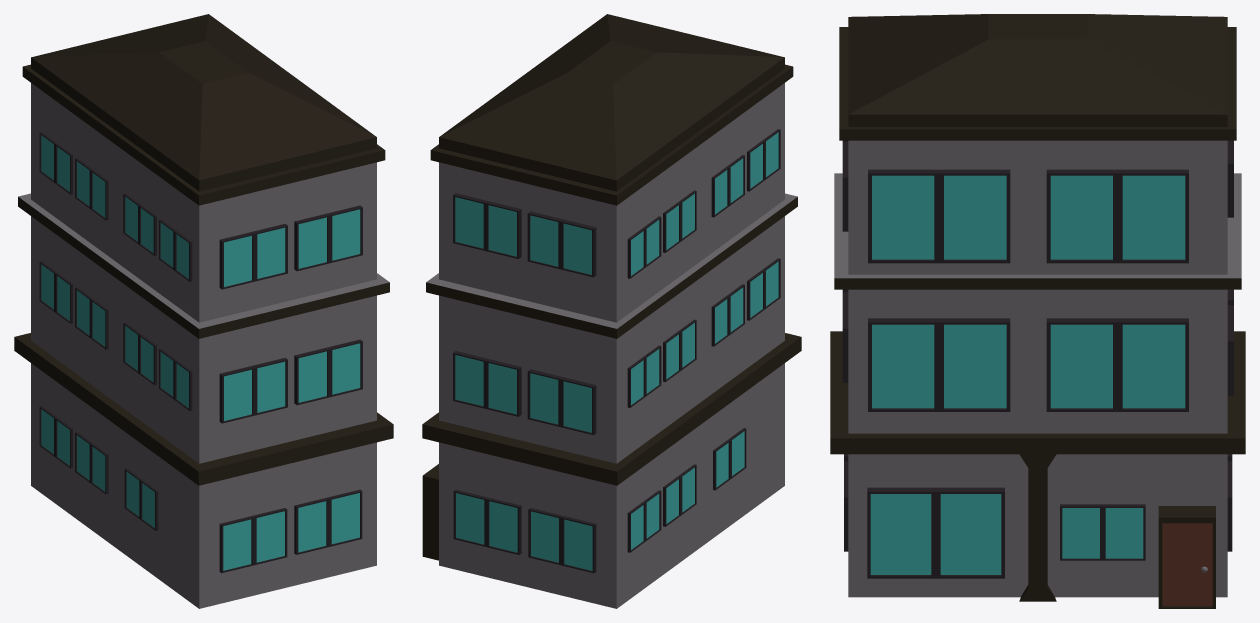
File: apartment3.fbx
3 renders of one model, left to right at view 1: azimuth 30°, elevation 25°; view 2: azimuth 150°, elevation 25°; view 3: azimuth 270°, elevation 25°, orthographic. The views are drawn at different scales.
Parts seen in each view (by area): view 1: Cube, Cube.014, Cube.001, Cube.036, Cube.038, Cube.035, Cube.037, Cube.033, Cube.034, Cube.016, Cube.018, Cube.021 (+8 smaller); view 2: Cube, Cube.014, Cube.001, Cube.032, Cube.030, Cube.029, Cube.031, Cube.027, Cube.028, Cube.002, Cube.017, Cube.019 (+9 smaller); view 3: Cube, Cube.014, Cube.001, Cube.004, Cube.008, Cube.005, Cube.003, Cube.007, Cube.006, Cube.015, Cube.002, Cube.029 (+2 smaller).
Boxes of the visible parts, x1=… form: Cube: x1=18, y1=83, x2=389, y2=608; Cube.014: x1=31, y1=14, x2=376, y2=191; Cube.001: x1=14, y1=64, x2=393, y2=485; Cube.036: x1=294, y1=339, x2=362, y2=405; Cube.038: x1=294, y1=205, x2=362, y2=271; Cube.035: x1=219, y1=357, x2=287, y2=423; Cube.037: x1=219, y1=223, x2=287, y2=289; Cube.033: x1=219, y1=508, x2=287, y2=573; Cube.034: x1=294, y1=489, x2=362, y2=554; Cube.016: x1=124, y1=468, x2=158, y2=530; Cube.018: x1=75, y1=432, x2=108, y2=494; Cube.021: x1=123, y1=322, x2=156, y2=385; Cube: x1=426, y1=83, x2=797, y2=608; Cube.014: x1=439, y1=14, x2=784, y2=191; Cube.001: x1=422, y1=64, x2=801, y2=485; Cube.032: x1=527, y1=211, x2=596, y2=277; Cube.030: x1=527, y1=369, x2=596, y2=434; Cube.029: x1=453, y1=351, x2=521, y2=416; Cube.031: x1=453, y1=193, x2=521, y2=258; Cube.027: x1=453, y1=489, x2=521, y2=554; Cube.028: x1=528, y1=508, x2=596, y2=573; Cube.002: x1=422, y1=464, x2=438, y2=560; Cube.017: x1=627, y1=490, x2=661, y2=552; Cube.019: x1=627, y1=345, x2=661, y2=407; Cube: x1=834, y1=140, x2=1241, y2=597; Cube.014: x1=848, y1=14, x2=1227, y2=126; Cube.001: x1=830, y1=27, x2=1245, y2=601; Cube.004: x1=868, y1=169, x2=1010, y2=263; Cube.008: x1=1046, y1=169, x2=1188, y2=263; Cube.005: x1=868, y1=318, x2=1010, y2=411; Cube.003: x1=1046, y1=318, x2=1188, y2=411; Cube.007: x1=867, y1=487, x2=1004, y2=578; Cube.006: x1=1060, y1=504, x2=1145, y2=560; Cube.015: x1=1162, y1=523, x2=1212, y2=605; Cube.002: x1=1158, y1=506, x2=1215, y2=608; Cube.029: x1=1227, y1=305, x2=1233, y2=395.
Size of the model in its own units: 677 by 1443 by 1041.
4 materials, 1 textured.
